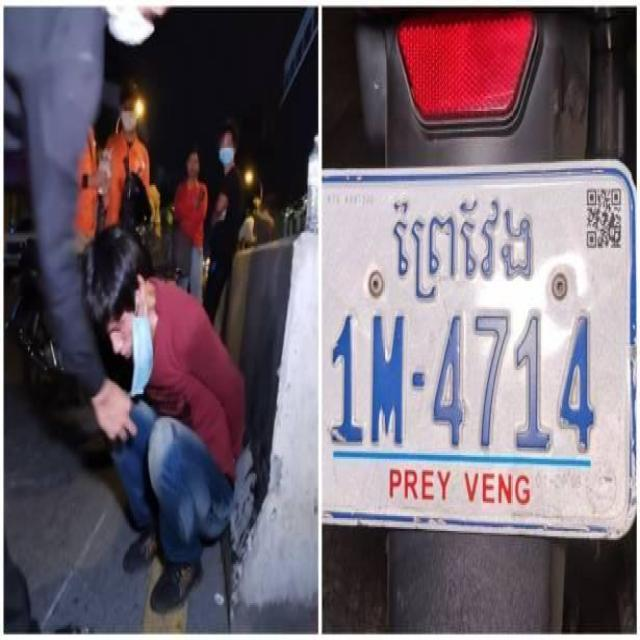Prey_Veng: (391, 196, 534, 301)
